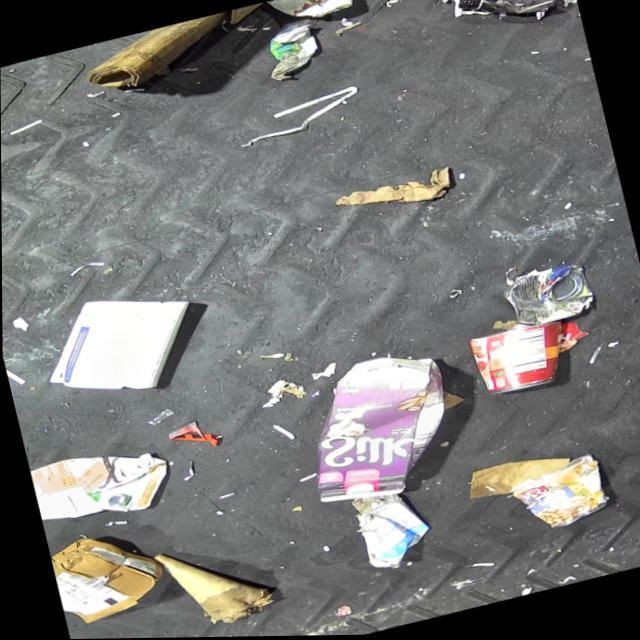can: (464, 316, 573, 402), (505, 452, 611, 538), (497, 258, 597, 334), (263, 0, 359, 28)
non_white_jug: (289, 343, 469, 512), (28, 437, 173, 533)
